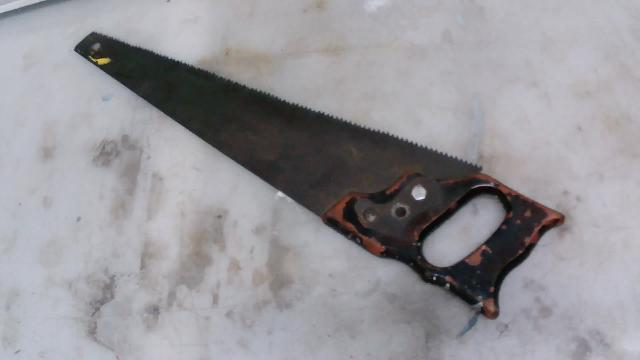gergaji_kayu: (56, 13, 597, 332)
